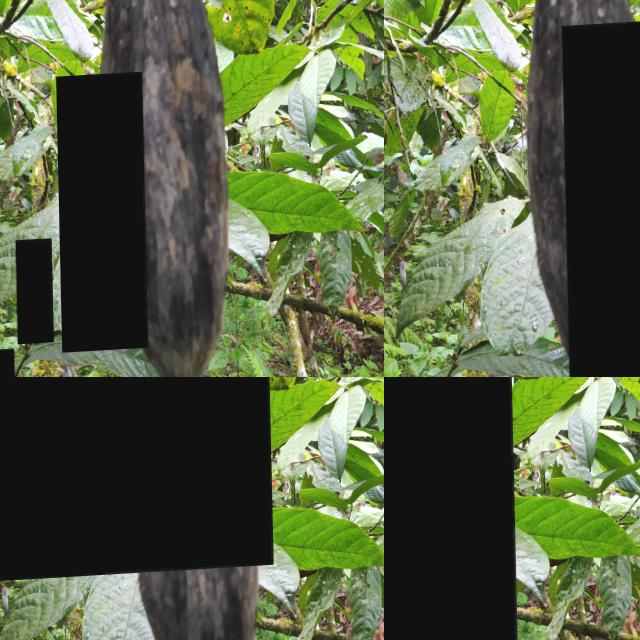Fitoftora: (384, 377, 517, 640), (560, 23, 640, 377), (55, 76, 146, 356)
Monilia: (0, 377, 271, 584), (14, 241, 51, 347)
